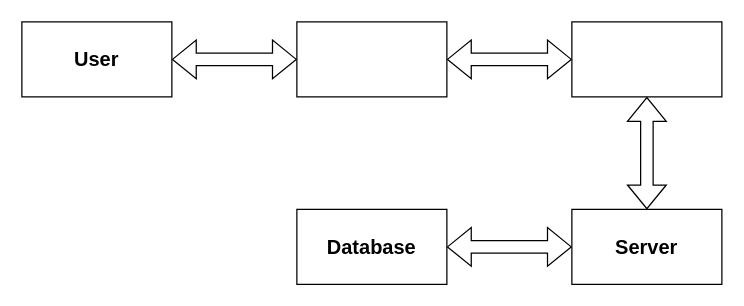
Some shapes in this 744 by 306 pixel diagram are drawn without their labels. The shapes that lost their labels are listed below. From the top down, each one's centre as x and y in pixels, then its label:
At point 371,59: "GUI".
At point 646,59: "Personal Computer".
